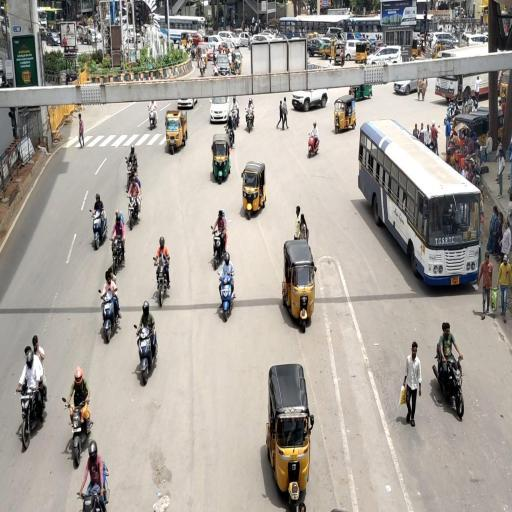helmet: (63, 359, 113, 462), (128, 298, 175, 405), (150, 226, 182, 300), (213, 254, 244, 320), (20, 336, 49, 386)
no helmet: (93, 260, 129, 344), (84, 186, 115, 252)
